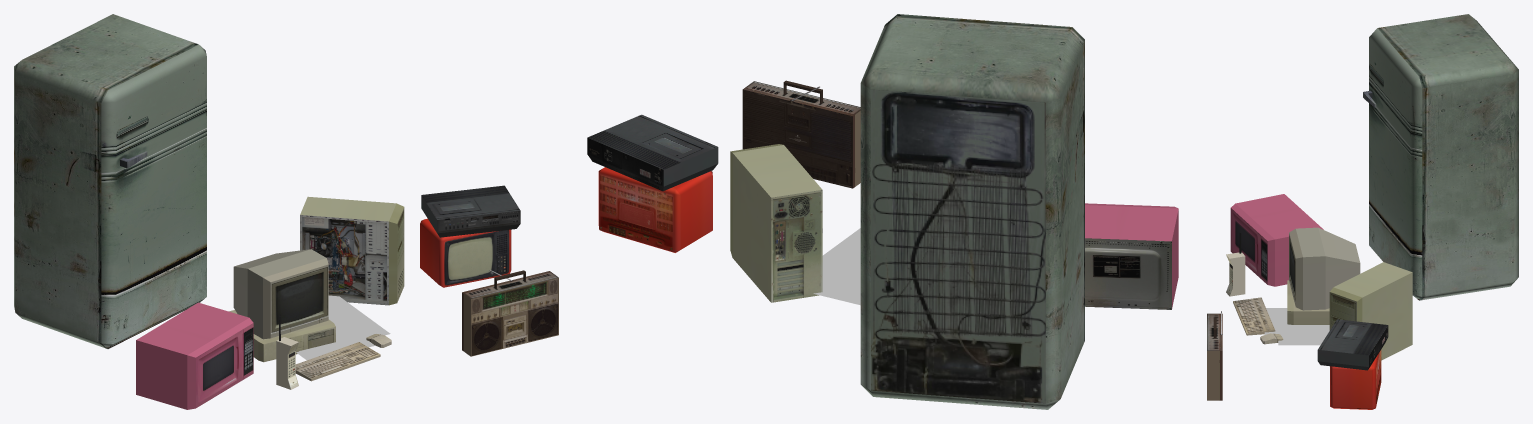
The model's file is APPLIANCES.FBX.
3 renders of one model, left to right at view 1: azimuth 30°, elevation 25°; view 2: azimuth 150°, elevation 25°; view 3: azimuth 270°, elevation 25°, orthographic. The views are drawn at different scales.
Parts seen in each view (by area): view 1: FRIDGE, NUKE, COMP2, MONITOR, RECORDER, TV, VHS, CABLEMOUSE, KEYBOARD, COMP1, PHONE; view 2: FRIDGE, COMP2, NUKE, RECORDER, TV, VHS, CABLEMOUSE; view 3: FRIDGE, COMP2, NUKE, MONITOR, VHS, TV, RECORDER, CABLEMOUSE, KEYBOARD, COMP1, PHONE.
Part boxes in pixels (x1,y1,x2,y2): FRIDGE: (14,14,206,348); NUKE: (136,302,253,409); COMP2: (300,196,404,305); MONITOR: (233,249,328,339); RECORDER: (462,270,558,356); TV: (420,218,511,287); VHS: (421,185,520,237); CABLEMOUSE: (299,295,390,354); KEYBOARD: (295,342,380,381); COMP1: (229,310,335,362); PHONE: (276,316,298,389); FRIDGE: (860,14,1084,409); COMP2: (730,144,822,302); NUKE: (1085,203,1178,309); RECORDER: (742,80,860,188); TV: (598,167,712,252); VHS: (587,114,718,191); CABLEMOUSE: (813,228,860,305); FRIDGE: (1363,14,1518,300); COMP2: (1329,262,1412,360); NUKE: (1230,194,1323,286); MONITOR: (1289,227,1360,310); VHS: (1317,319,1388,370); TV: (1330,350,1381,409); RECORDER: (1207,311,1222,400); CABLEMOUSE: (1278,308,1329,345); KEYBOARD: (1233,297,1275,335); COMP1: (1287,280,1329,324); PHONE: (1226,232,1245,296).
Bounding box in the file's own units: 7.19 × 4.12 × 5.18.
